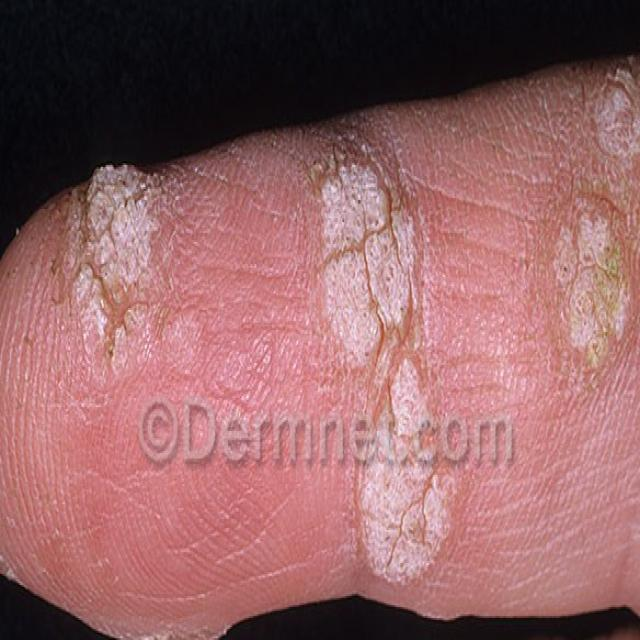Warts: (308, 127, 450, 595), (537, 61, 640, 450), (65, 147, 174, 361)
